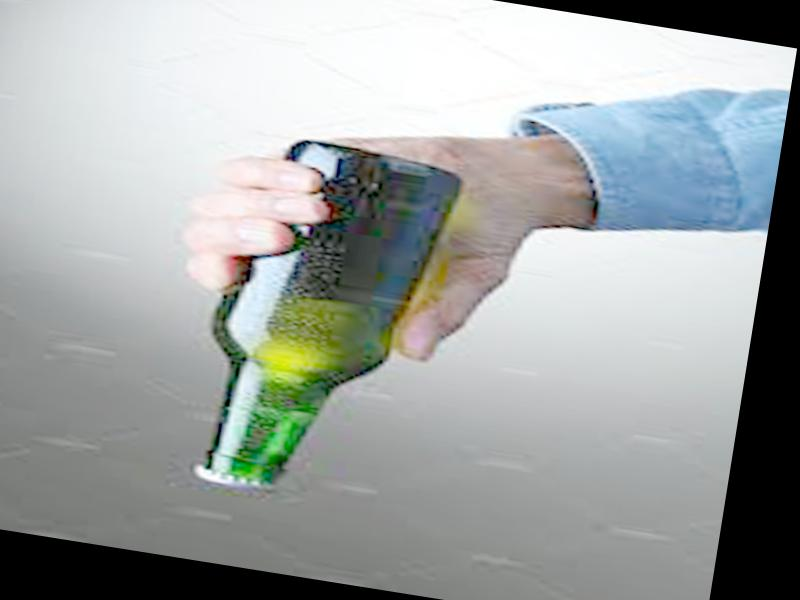Beer: (176, 129, 468, 511)
